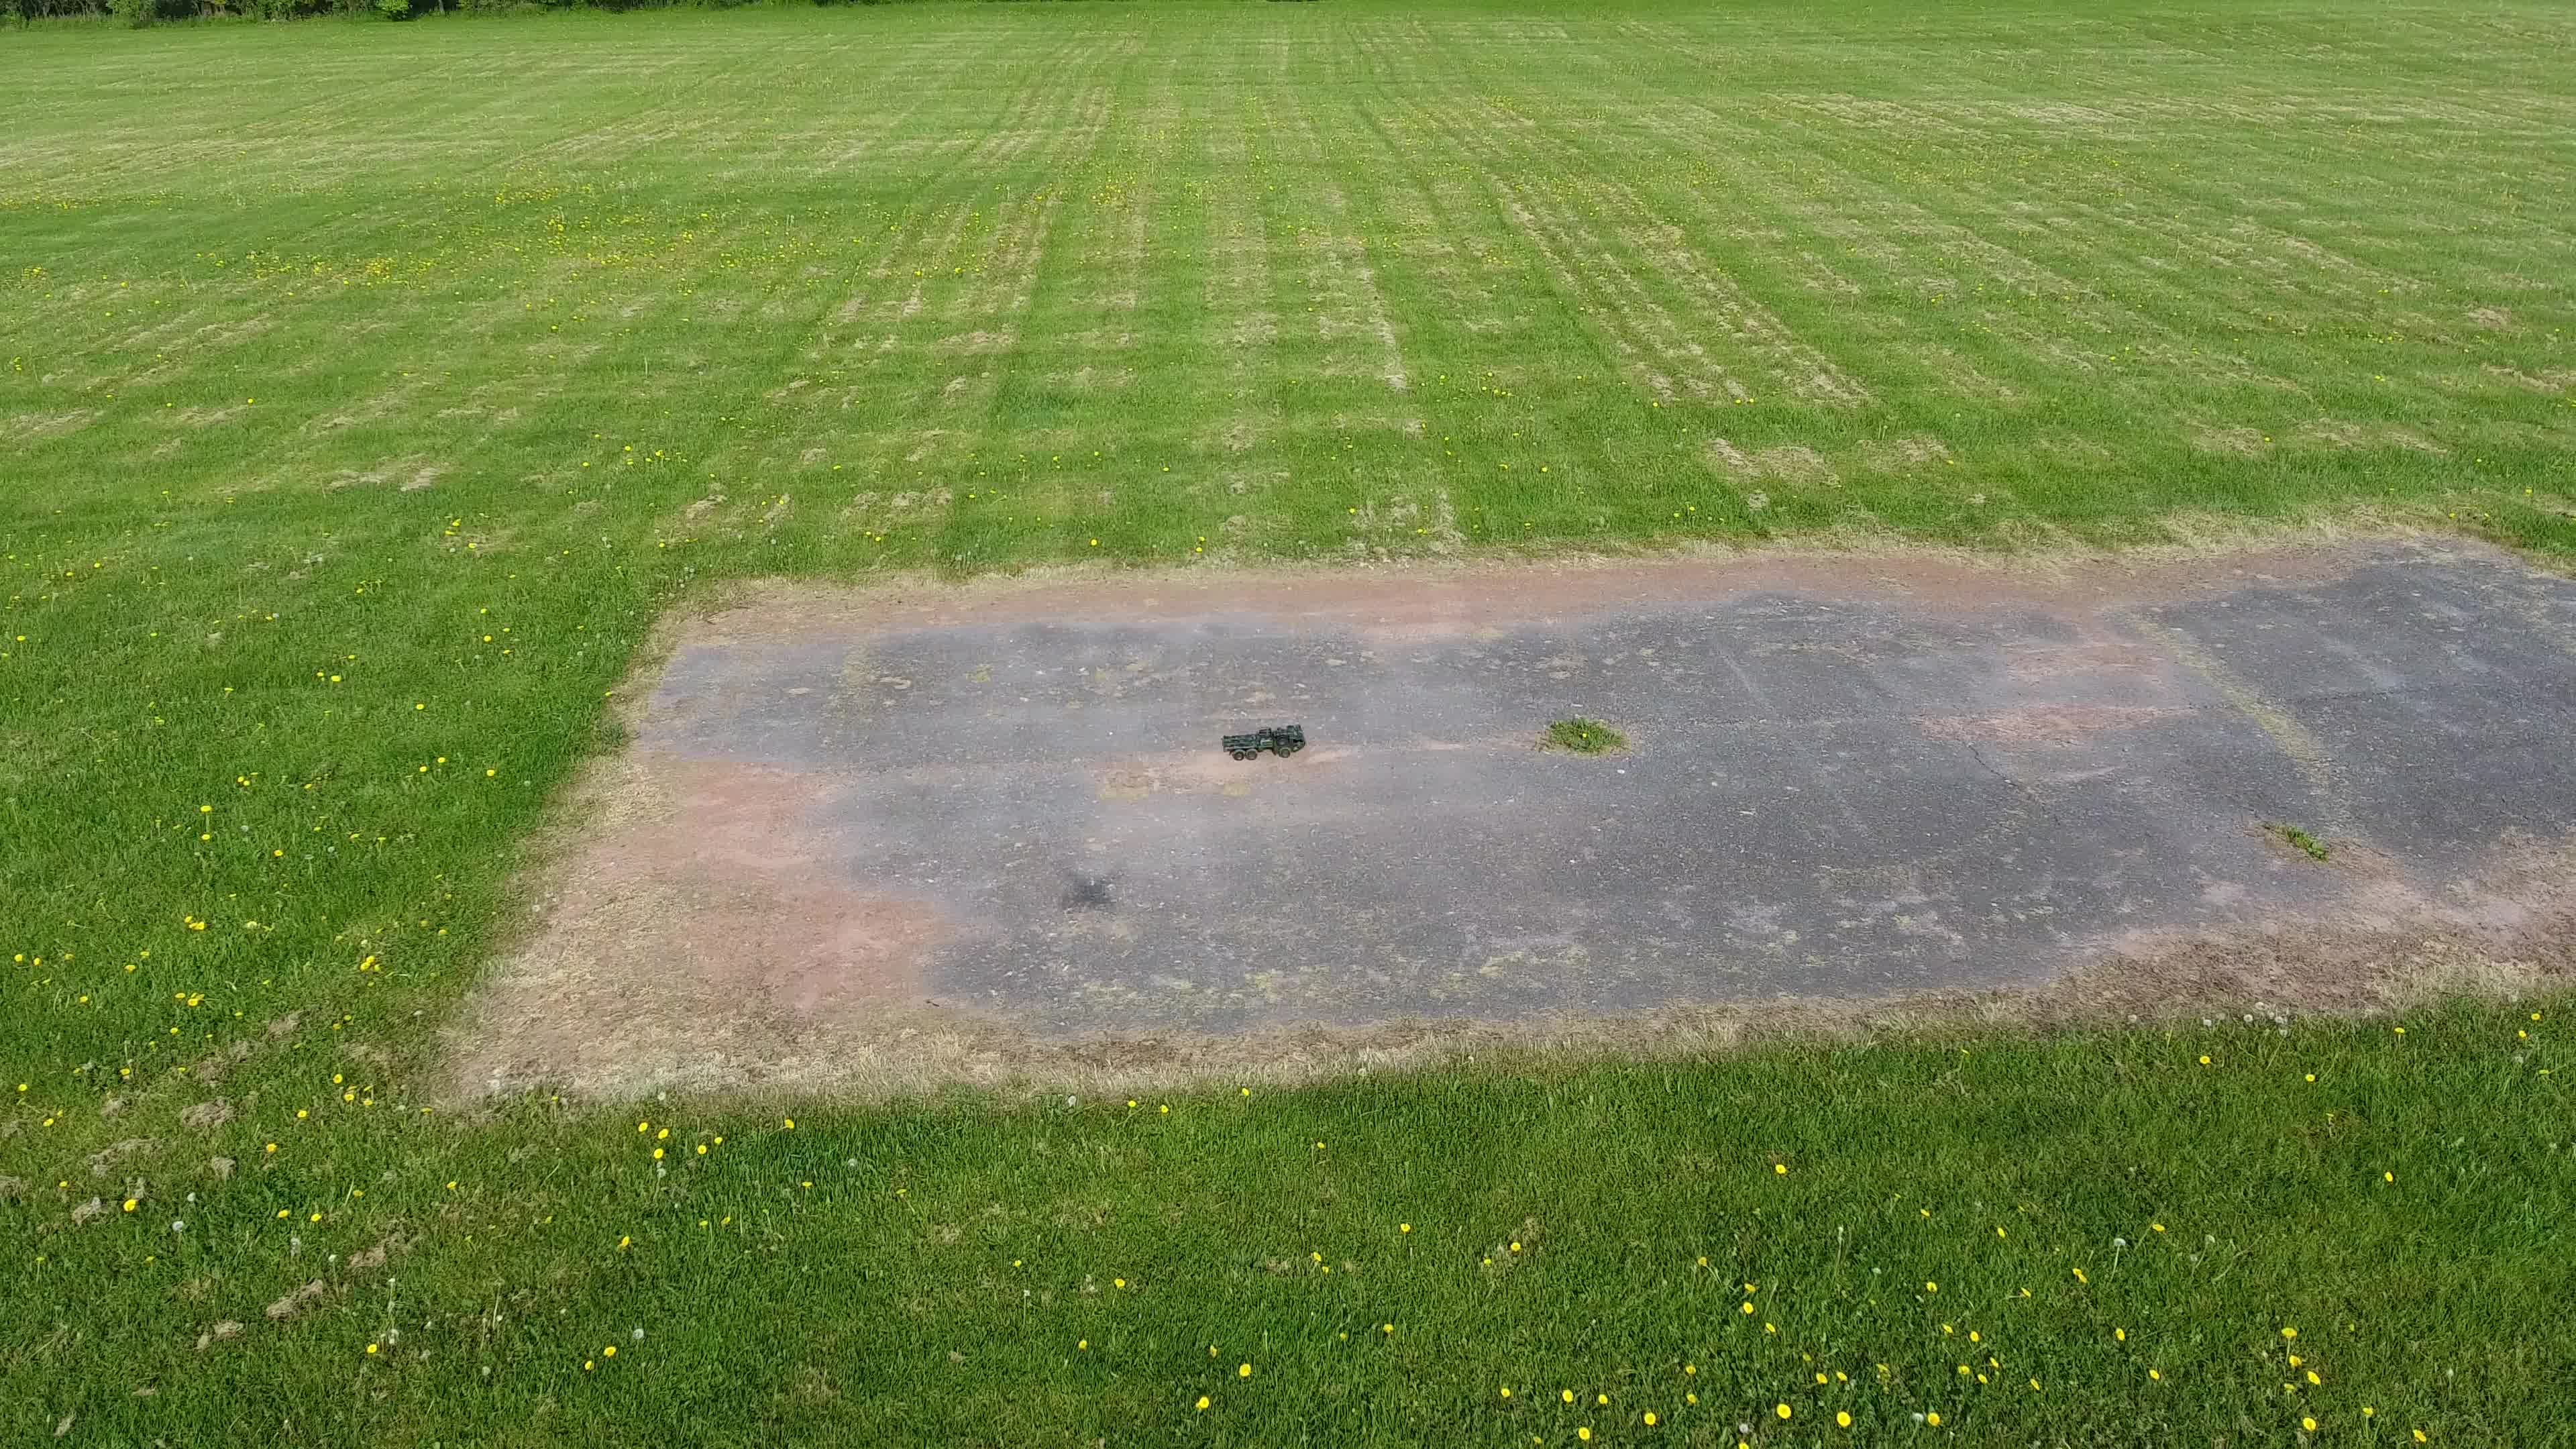transporter9: (1219, 724, 1307, 763)
